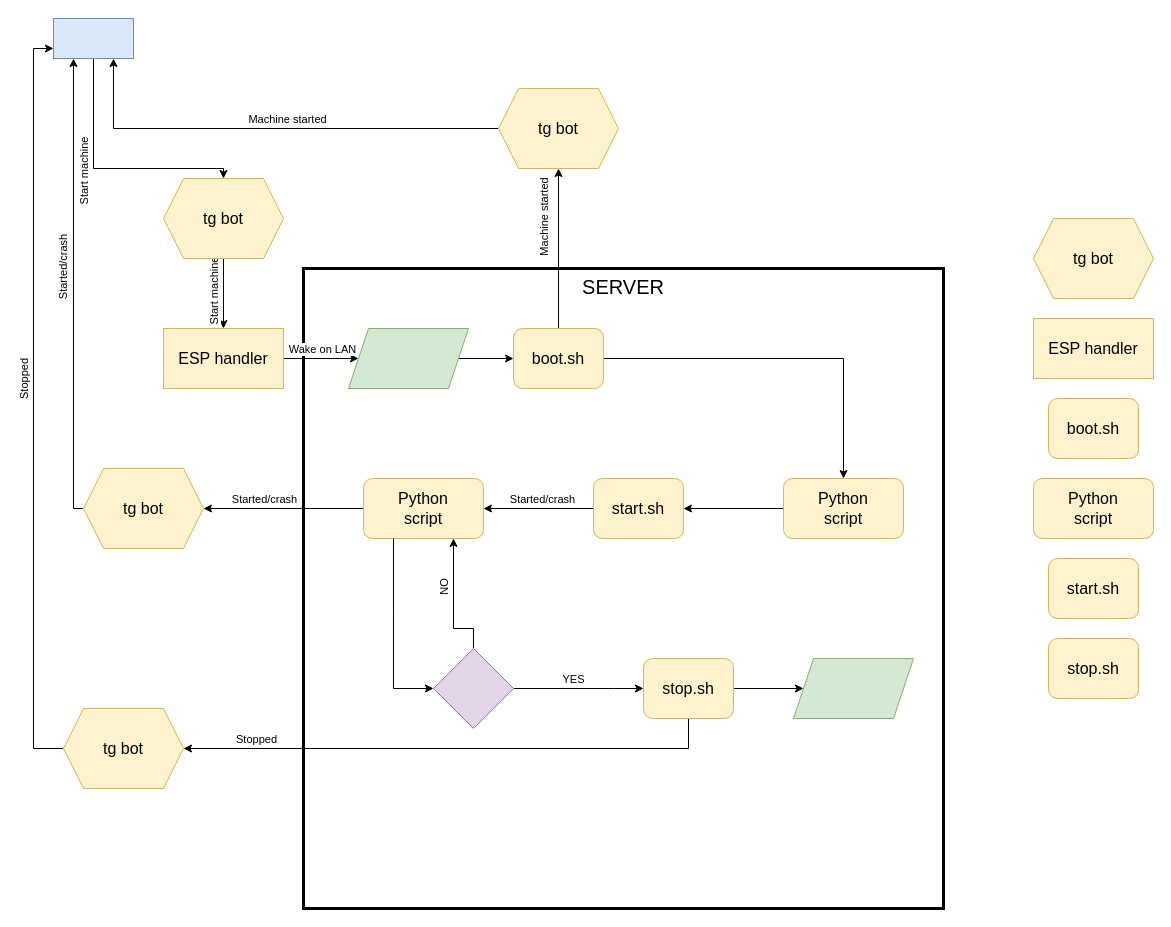
Some shapes in this 1171 by 927 pixel diagram are drawn without their labels. The centre of each missing label's shape, as x and y in pixels:
15-30 min no players: the point at 473,688
START: the point at 408,358
SUSPEND: the point at 853,688
user: the point at 93,38
